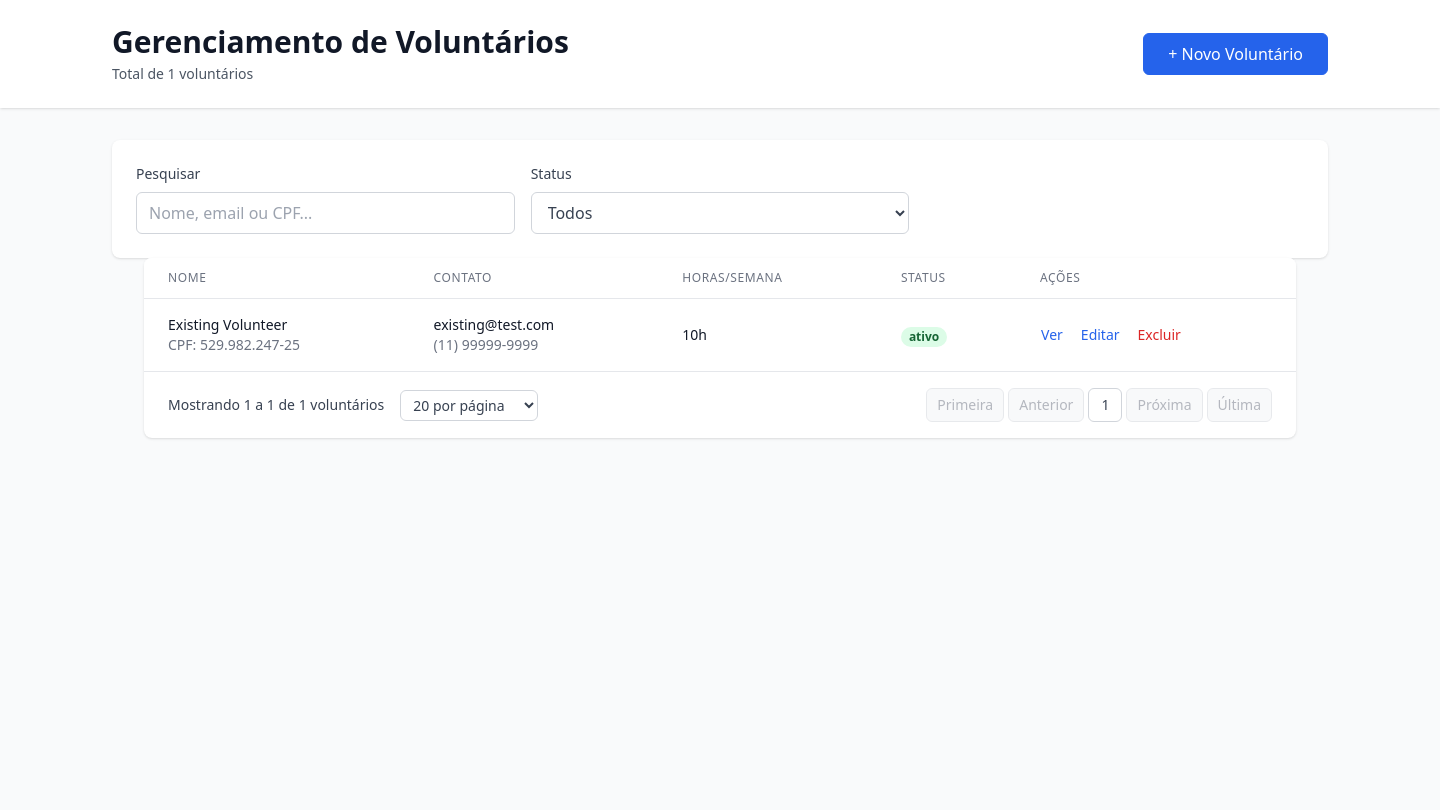
Test: ONGVolunteersPage › Edit Volunteer › should open edit modal with volunteer data
Click the button "Editar" at coordinates (1100, 335), box [1080,324,1121,346]
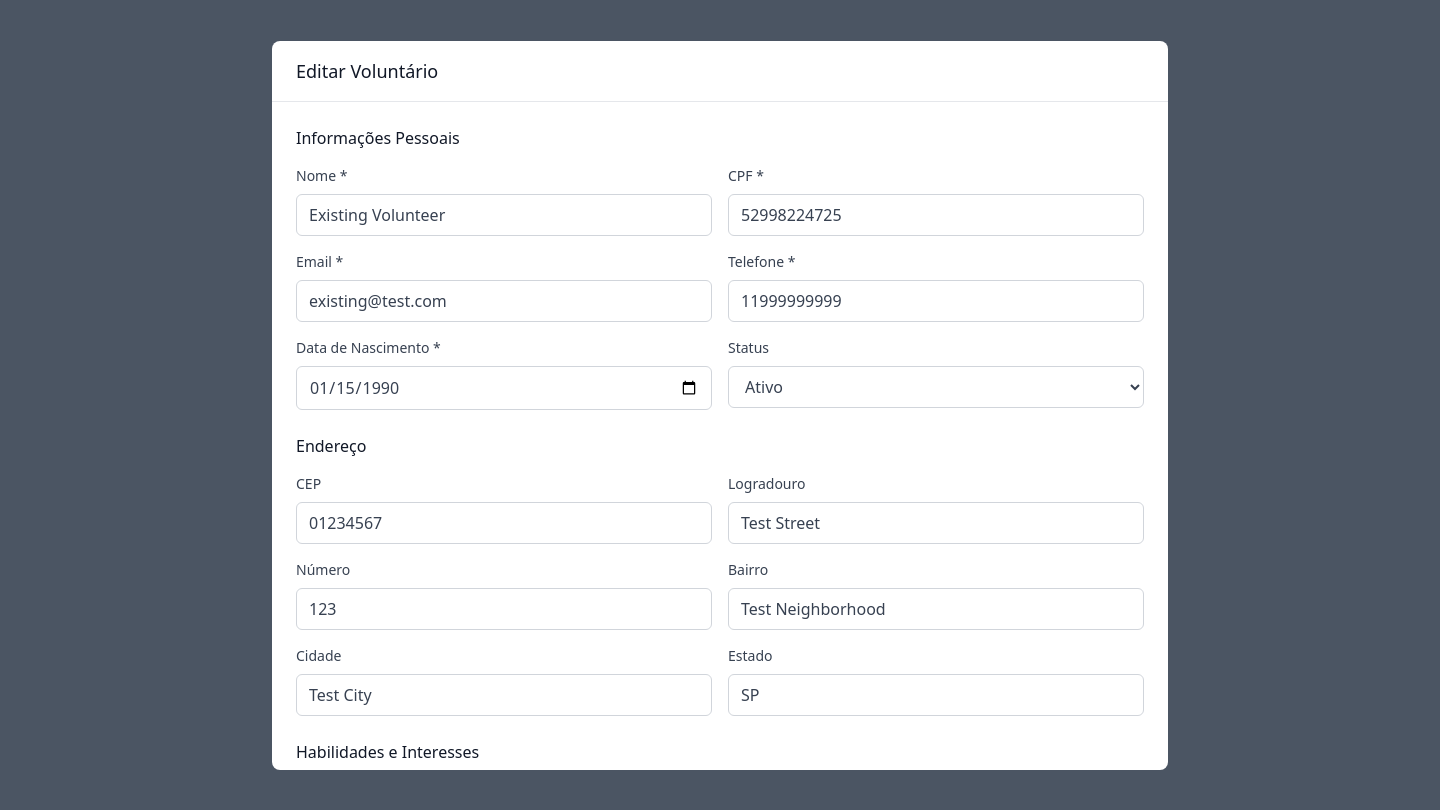
Expected: the heading "Editar Voluntário" is shown, [296,58,438,82]
Expected: the field showing "Existing Volunteer" below "Nome *" is shown, [296,194,712,236]
Expected: the field showing "existing@test.com" below "Email *" is shown, [296,280,712,322]
